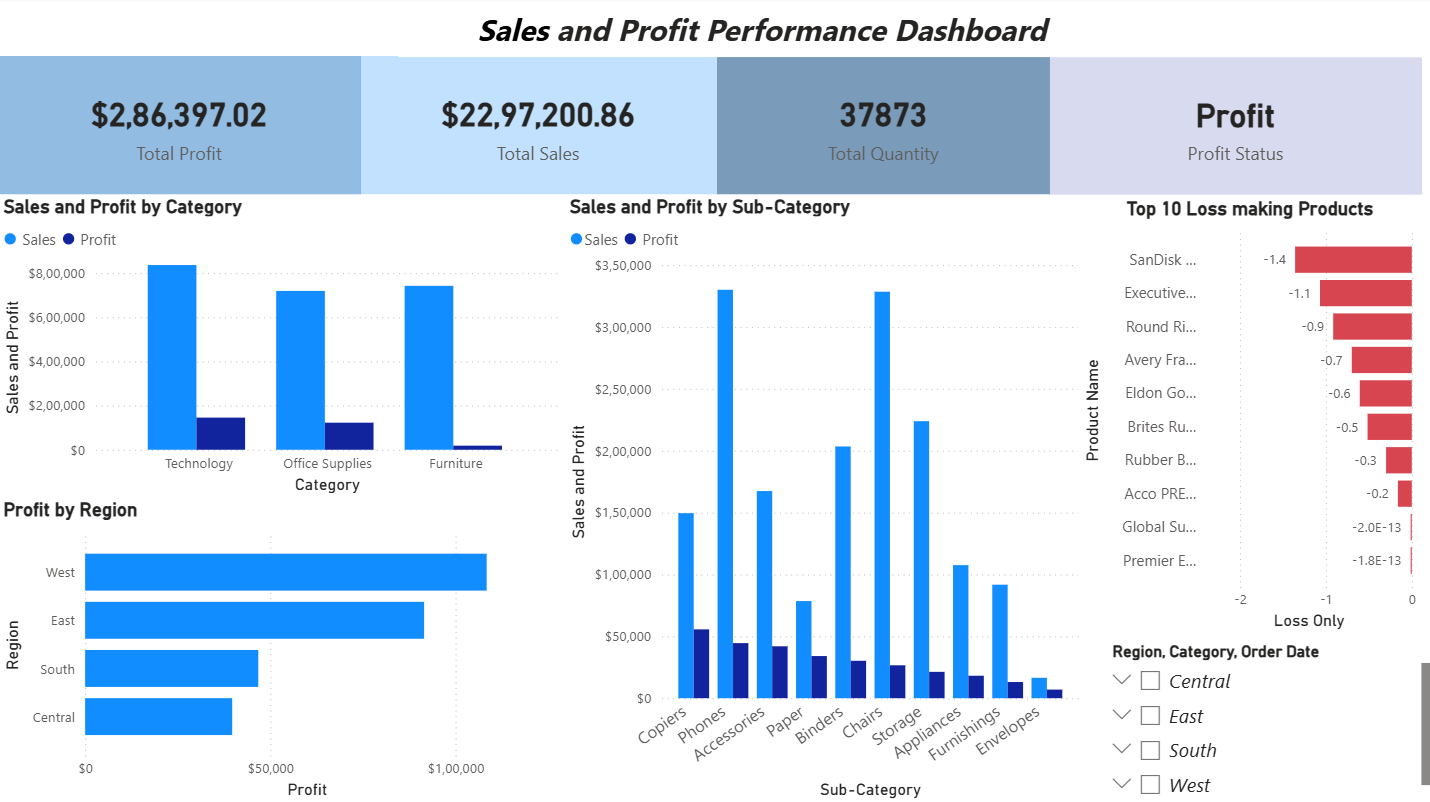

What the dashboard file says about the page in this screenshot:
{"tool":"powerbi","page":{"name":"Page 1","canvas":[1280,720],"ordinal":0},"visuals":[{"type":"card","fields":{"Values":["Sum(Orders.Sales)"]},"box":[322.8,53.8,316.7,123.5],"z":0},{"type":"card","fields":{"Values":["Sum(Orders.Profit)"]},"box":[0,53.8,322.8,123.5],"z":1},{"type":"card","fields":{"Values":["Sum(Orders.Quantity)"]},"box":[639.5,53.8,297.1,123.5],"z":2},{"type":"textbox","box":[356.3,0,640,54.2],"z":4},{"type":"clusteredColumnChart","fields":{"Category":["Orders.Category"],"Y":["Sum(Orders.Sales)","Sum(Orders.Profit)"]},"box":[0,176.7,504.6,270.8],"z":5},{"type":"clusteredColumnChart","fields":{"Category":["Orders.Sub-Category"],"Y":["Sum(Orders.Sales)","Sum(Orders.Profit)"]},"box":[504.6,176.7,463.3,543.1],"z":6},{"type":"barChart","fields":{"Y":["Sum(Orders.Profit)"],"Category":["People.Region"]},"box":[0,447.6,504.6,272.2],"z":7},{"type":"barChart","title":"Top 10 Loss making Products ","fields":{"Category":["Orders.Product Name"],"Y":["Orders.Loss Only"]},"box":[962.1,179.6,306.5,390.6],"z":9},{"type":"card","fields":{"Values":["Orders.Profit Status"]},"box":[936.5,54.2,332.1,122.6],"z":10},{"type":"slicer","fields":{"Values":["Orders.Region","Orders.Category","Orders.Order Date"]},"box":[979.2,570.2,300.8,149.7],"z":11}]}

Visuals, with their boxes in screenshot pixels (x1, y1, x2, y2), scaled from the page's 1280x720 canvas onto the 1430x802 screenshot:
card - Sum(Orders.Sales): [x1=361, y1=60, x2=714, y2=197]
card - Sum(Orders.Profit): [x1=0, y1=60, x2=361, y2=197]
card - Sum(Orders.Quantity): [x1=714, y1=60, x2=1046, y2=197]
textbox: [x1=398, y1=0, x2=1113, y2=60]
clusteredColumnChart - Orders.Category x Sum(Orders.Sales): [x1=0, y1=197, x2=564, y2=498]
clusteredColumnChart - Orders.Sub-Category x Sum(Orders.Sales): [x1=564, y1=197, x2=1081, y2=801]
barChart - Sum(Orders.Profit) x People.Region: [x1=0, y1=499, x2=564, y2=801]
"Top 10 Loss making Products " barChart: [x1=1075, y1=200, x2=1417, y2=635]
card - Orders.Profit Status: [x1=1046, y1=60, x2=1417, y2=197]
slicer - Orders.Region x Orders.Category: [x1=1094, y1=635, x2=1429, y2=801]
